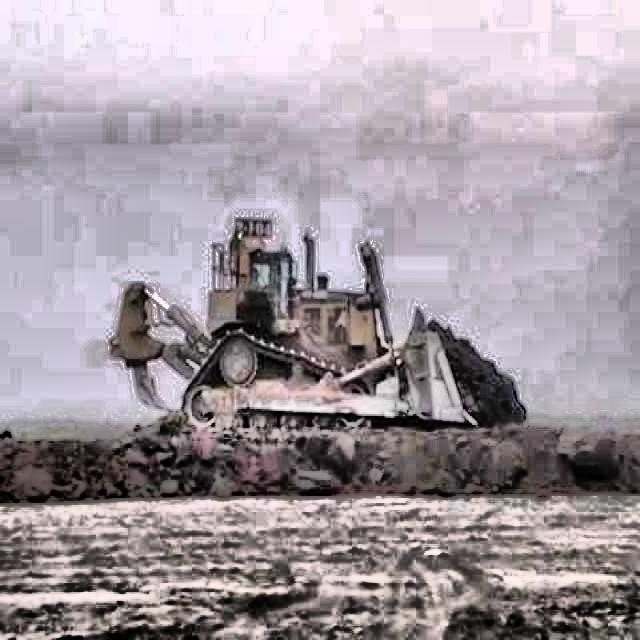bull_dozer/loader/grader: (110, 205, 538, 440)
